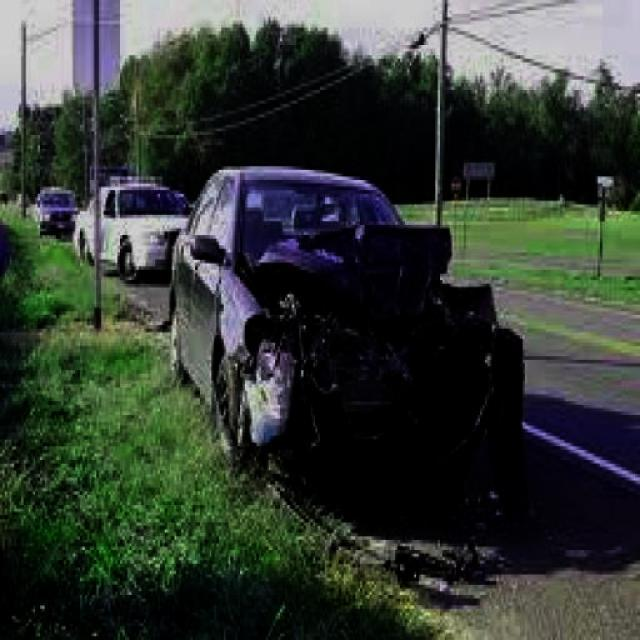car damage: (222, 233, 527, 525)
